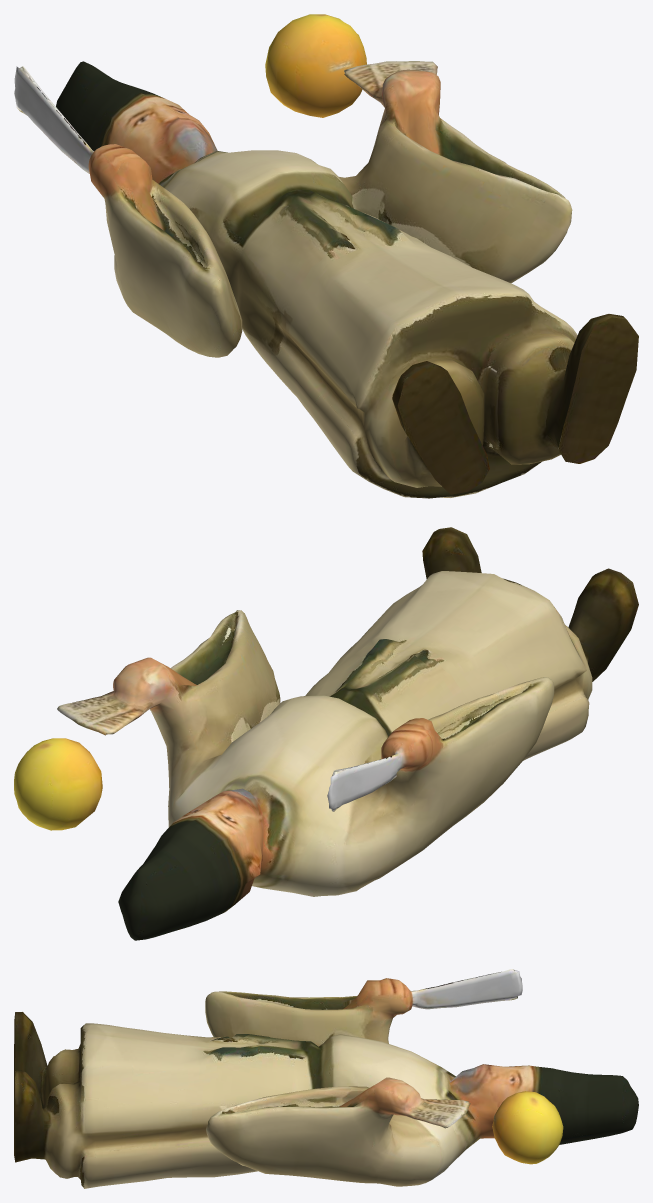
Rendered from Abe_No_Seimei.glb.
The picture shows the model from 3 angles, top to bottom: view 1: azimuth 30°, elevation 25°; view 2: azimuth 150°, elevation 25°; view 3: azimuth 270°, elevation 25°; orthographic projection. The views are drawn at different scales.
Parts seen in each view (by area): view 1: Retopo_Abe no Seimei.002; view 2: Retopo_Abe no Seimei.002; view 3: Retopo_Abe no Seimei.002.
Part boxes in pixels (x1,y1,x2,y2): Retopo_Abe no Seimei.002: (14,14,638,498); Retopo_Abe no Seimei.002: (14,527,638,940); Retopo_Abe no Seimei.002: (14,969,638,1188).
Size of the model in its own units: 0.9951 by 0.5565 by 1.95.
1 material, 1 textured.
